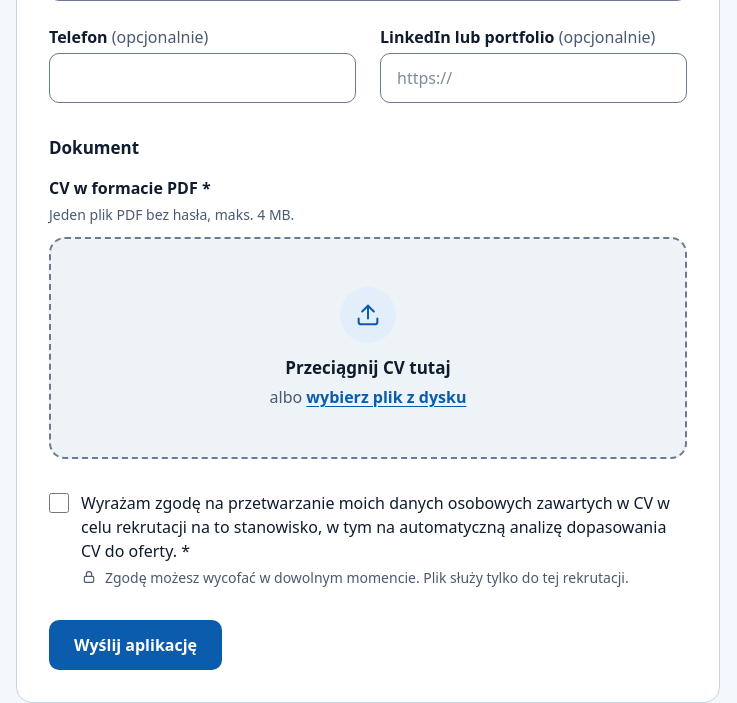
Test: CvUploadForm › shows errors and focuses the first invalid field on empty submit
The image size is (737, 703).
(page scrolled)
Click the button "Wyślij aplikację".
click(136, 645)  # box [49,620,222,670]
(page scrolled)
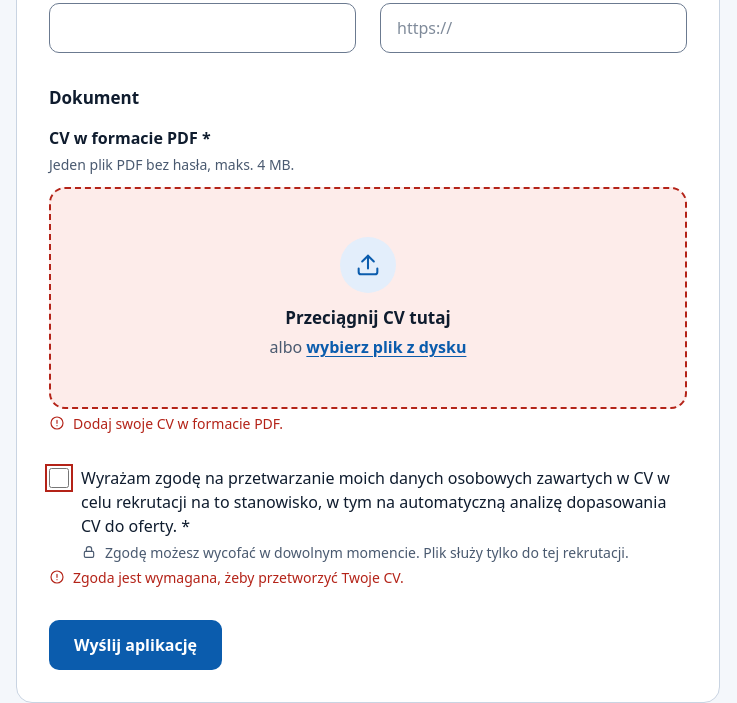
Result: the text "Dodaj swoje CV w formacie PDF." is shown at [73,413,283,434]
Result: the text "Zgoda jest wymagana, żeby przetworzyć Twoje CV." is shown at [73,567,404,588]
